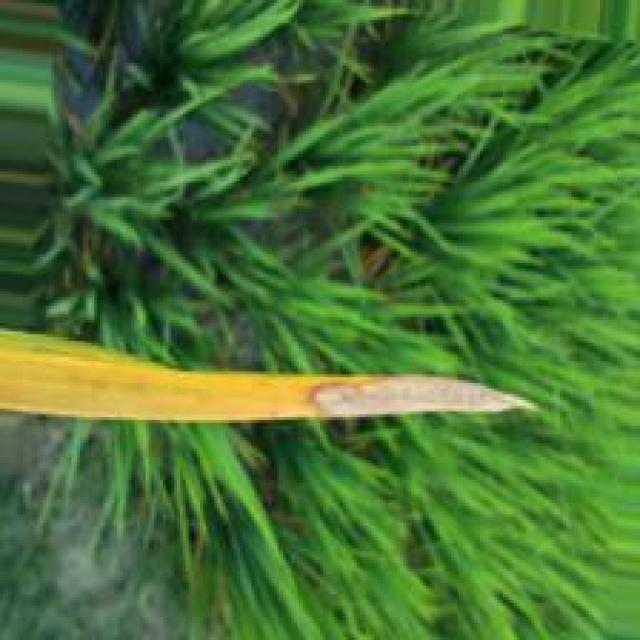Leaf_Scald: (301, 372, 508, 416)
